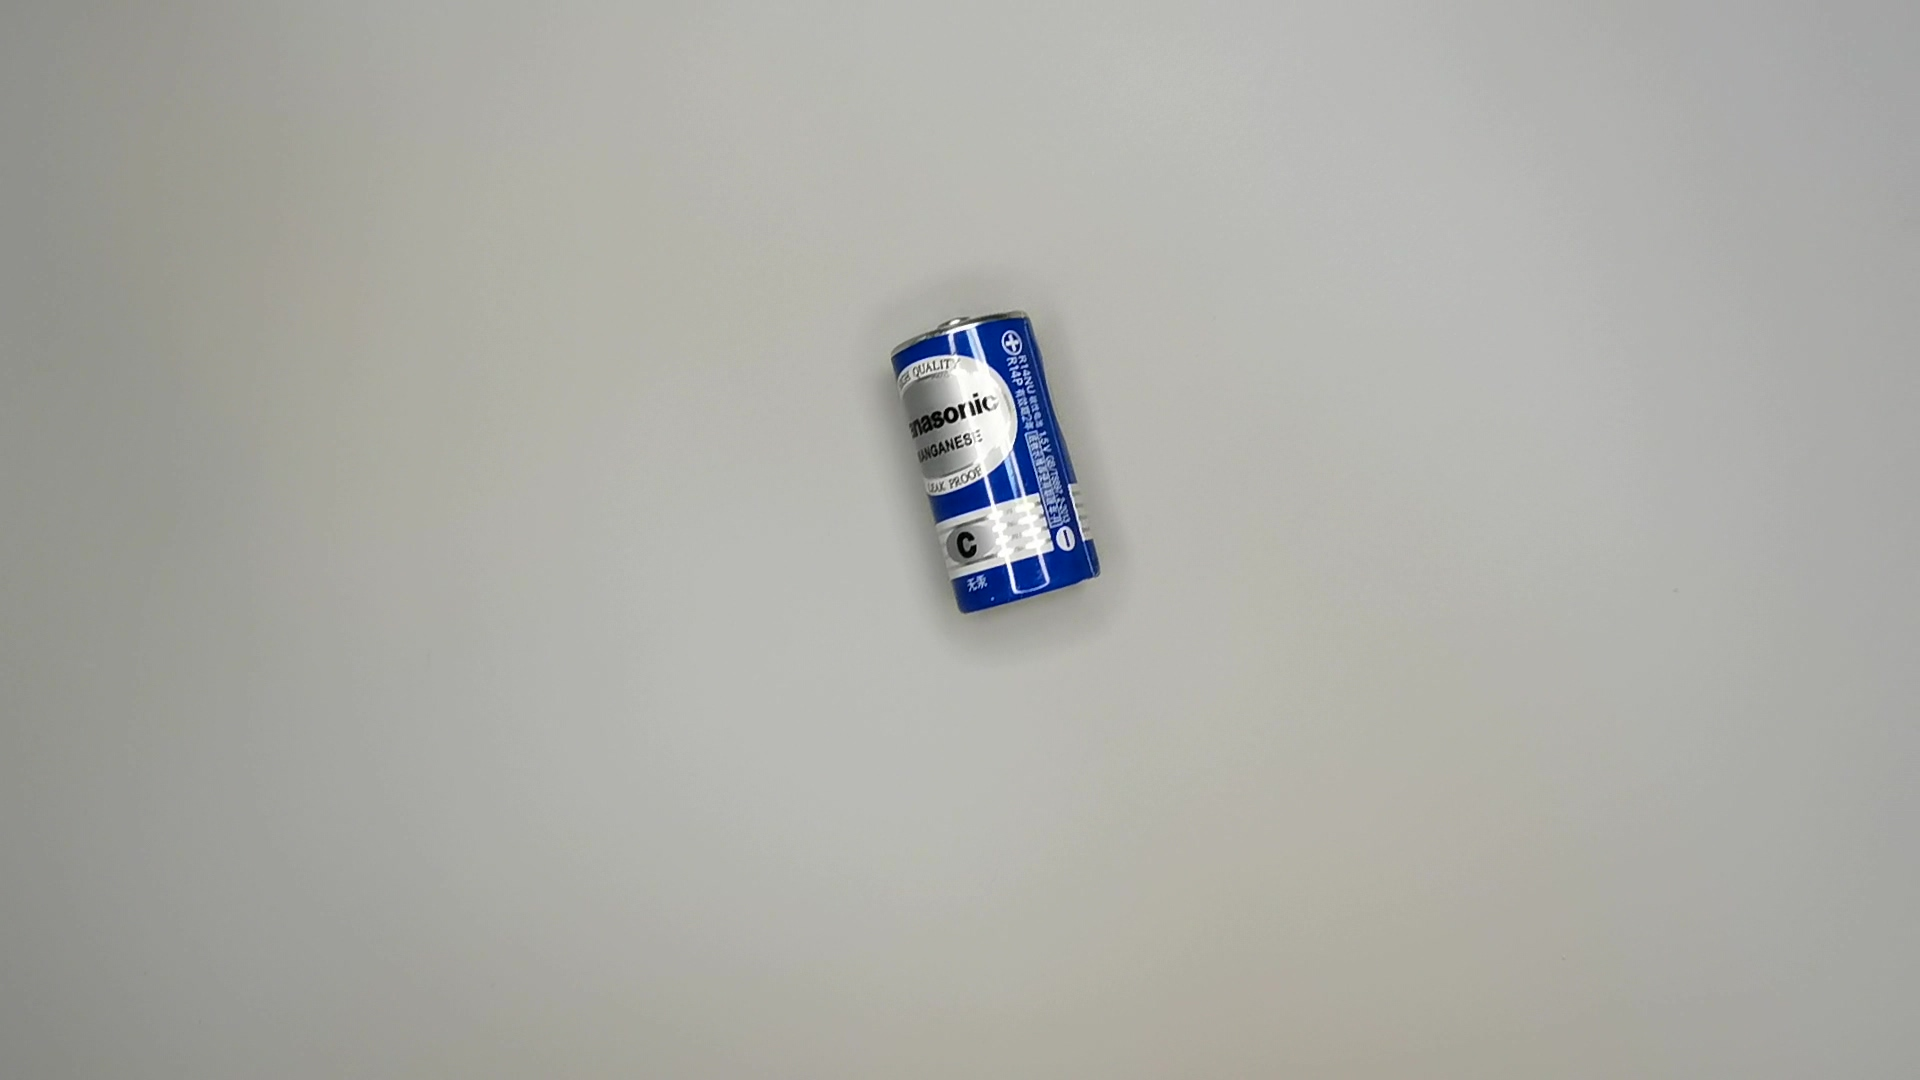battery: (889, 305, 1108, 624)
